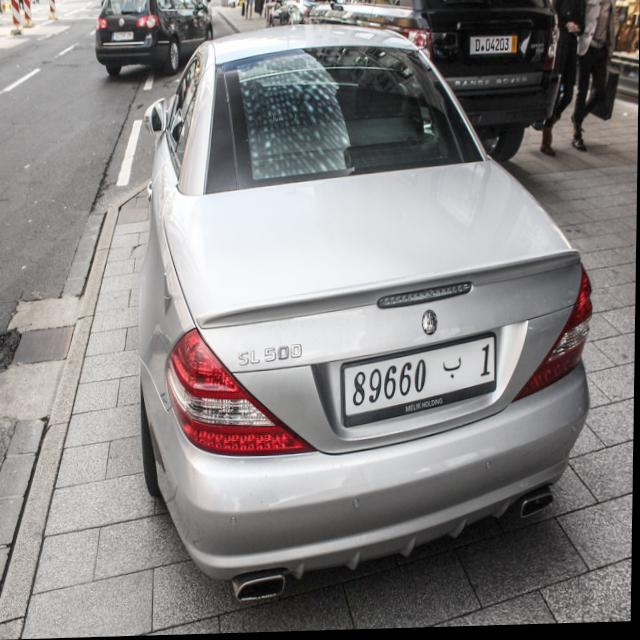License-Plate: (343, 339, 497, 429)
